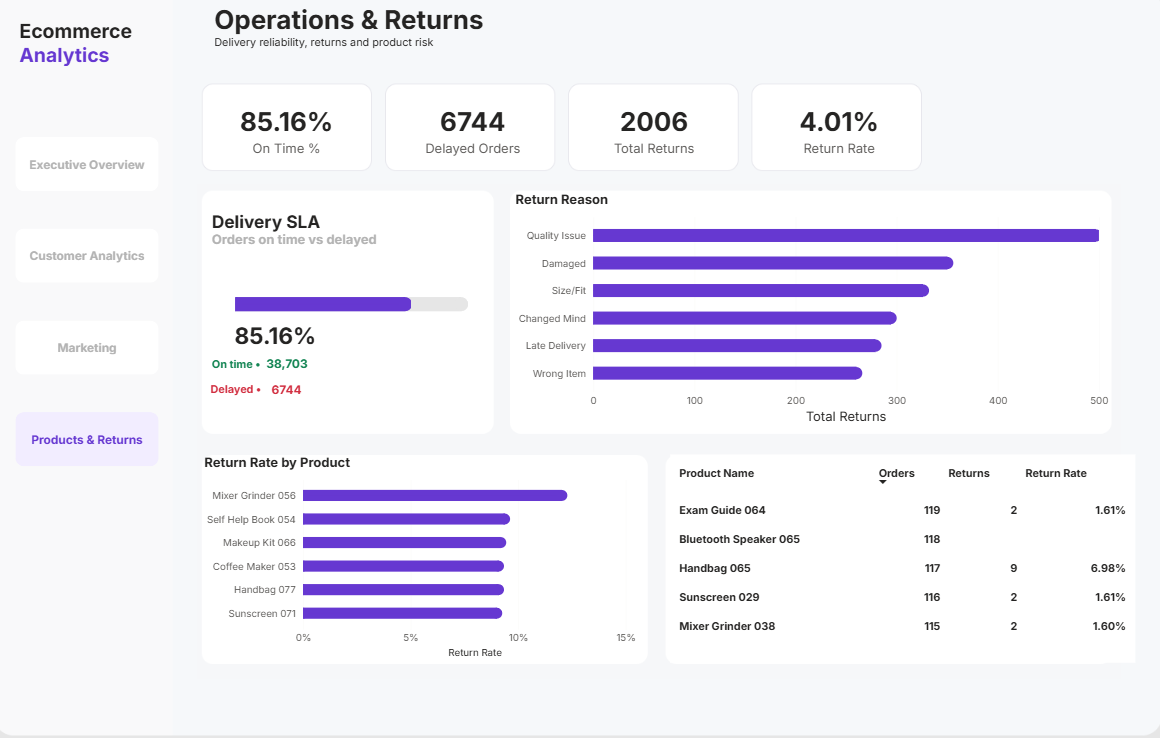

The dashboard page shown, as its layout file describes it:
{"tool":"powerbi","page":{"name":"Products & Returns","canvas":[1440,920],"ordinal":3},"visuals":[{"type":"pageNavigator","box":[25.9,178.2,177.5,407.5],"z":0},{"type":"textbox","box":[25.9,30,177.5,109.6],"z":1000},{"type":"textbox","box":[266,9.3,566,106],"z":2000},{"type":"card","fields":{"Values":["customers.On Time %"]},"box":[255,116.7,213.3,105],"z":3000},{"type":"card","fields":{"Values":["customers.Delayed Orders"]},"box":[483.3,116.7,213.3,105],"z":4000},{"type":"card","fields":{"Values":["customers.Total Returns"]},"box":[708.3,116.7,213.3,105],"z":5000},{"type":"card","fields":{"Values":["customers.Return Rate"]},"box":[935,116.7,213.3,105],"z":6000},{"type":"barChart","title":" Return Reason","fields":{"Category":["returns.Return_Reason"],"Y":["customers.Total Returns"]},"box":[638.3,246.7,741.7,291.7],"z":7000},{"type":"barChart","title":"Return Rate by Product","fields":{"Category":["products.Product_Name"],"Y":["customers.Return Rate"]},"box":[255,570,568.3,256.7],"z":8000},{"type":"tableEx","fields":{"Values":["products.Product_Name","orders.Total Orders","customers.Total Returns","customers.Return Rate"]},"box":[833.3,570,573.3,256.7],"z":9000},{"type":"barChart","fields":{"Y":["orders.Total Orders"]},"box":[292.1,321.4,316.4,121.4],"z":10000},{"type":"barChart","fields":{"Y":["products.On Time Orders"]},"box":[292.1,322.1,226.4,121.4],"z":11000},{"type":"textbox","box":[264.3,265.7,254.3,56.4],"z":12000},{"type":"card","fields":{"Values":["customers.On Time %"]},"box":[267.9,382.1,157.9,83.6],"z":13000},{"type":"card","fields":{"Values":["products.On Time Orders"]},"box":[326.4,444.3,69.3,32.1],"z":14000},{"type":"card","fields":{"Values":["customers.Delayed Orders"]},"box":[327.1,476.4,68.6,32.1],"z":15000},{"type":"textbox","box":[264.1,445.3,72.9,29.4],"z":16000},{"type":"textbox","box":[261.8,476.5,72.9,29.4],"z":17000}]}

Visuals, with their boxes on the page's 1440x920 design canvas (x1, y1, x2, y2). These are canvas units, not pixel positions in the 1160x738 screenshot, which may show the page scaled, cropped or inside an application window:
pageNavigator: crop(26, 178, 203, 586)
textbox: crop(26, 30, 203, 140)
textbox: crop(266, 9, 832, 115)
card - customers.On Time %: crop(255, 117, 468, 222)
card - customers.Delayed Orders: crop(483, 117, 697, 222)
card - customers.Total Returns: crop(708, 117, 922, 222)
card - customers.Return Rate: crop(935, 117, 1148, 222)
" Return Reason" barChart: crop(638, 247, 1380, 538)
"Return Rate by Product" barChart: crop(255, 570, 823, 827)
tableEx - products.Product_Name x orders.Total Orders: crop(833, 570, 1407, 827)
barChart - orders.Total Orders: crop(292, 321, 608, 443)
barChart - products.On Time Orders: crop(292, 322, 518, 444)
textbox: crop(264, 266, 519, 322)
card - customers.On Time %: crop(268, 382, 426, 466)
card - products.On Time Orders: crop(326, 444, 396, 476)
card - customers.Delayed Orders: crop(327, 476, 396, 508)
textbox: crop(264, 445, 337, 475)
textbox: crop(262, 476, 335, 506)
